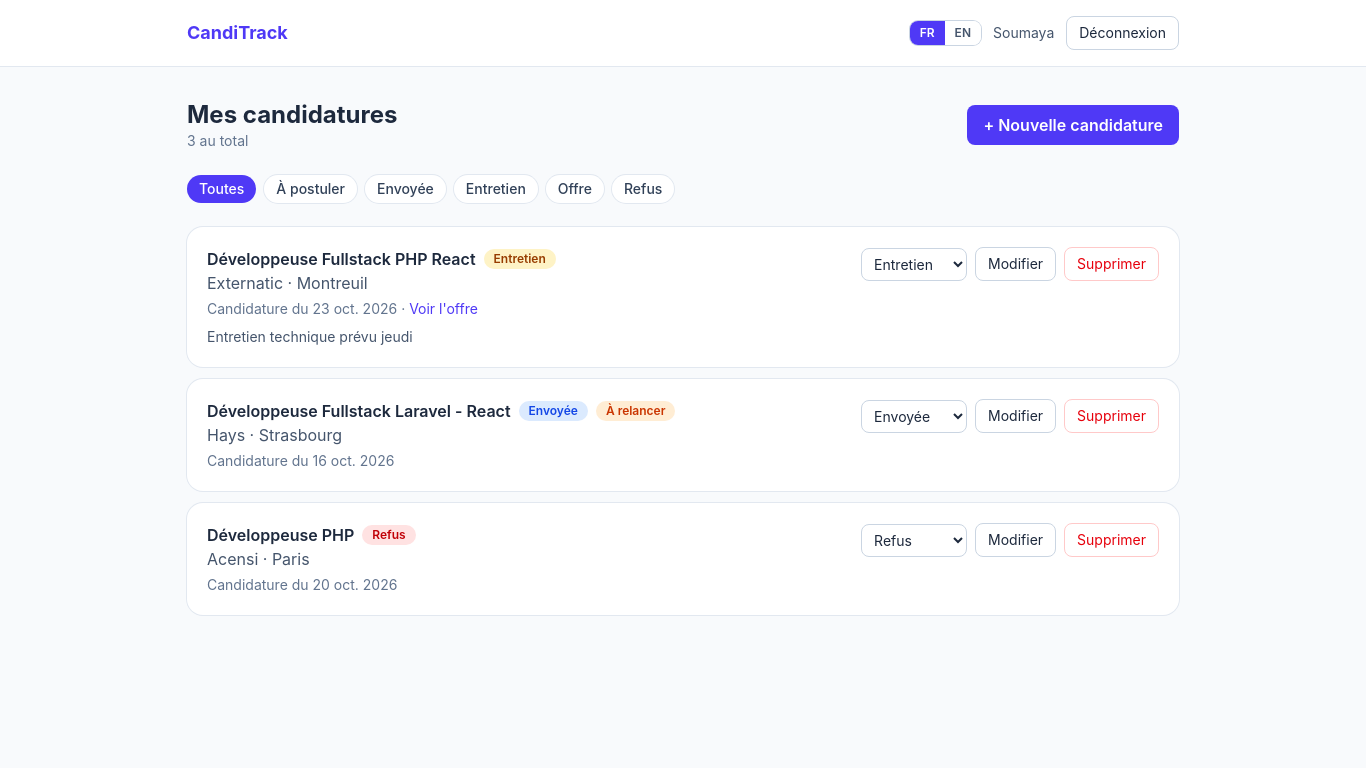
Test case: Candidatures › affiche les erreurs de validation du formulaire
This screenshot has width=1366, height=768.
Click the button "+ Nouvelle candidature" at (1073, 125), box [967,105,1179,145]
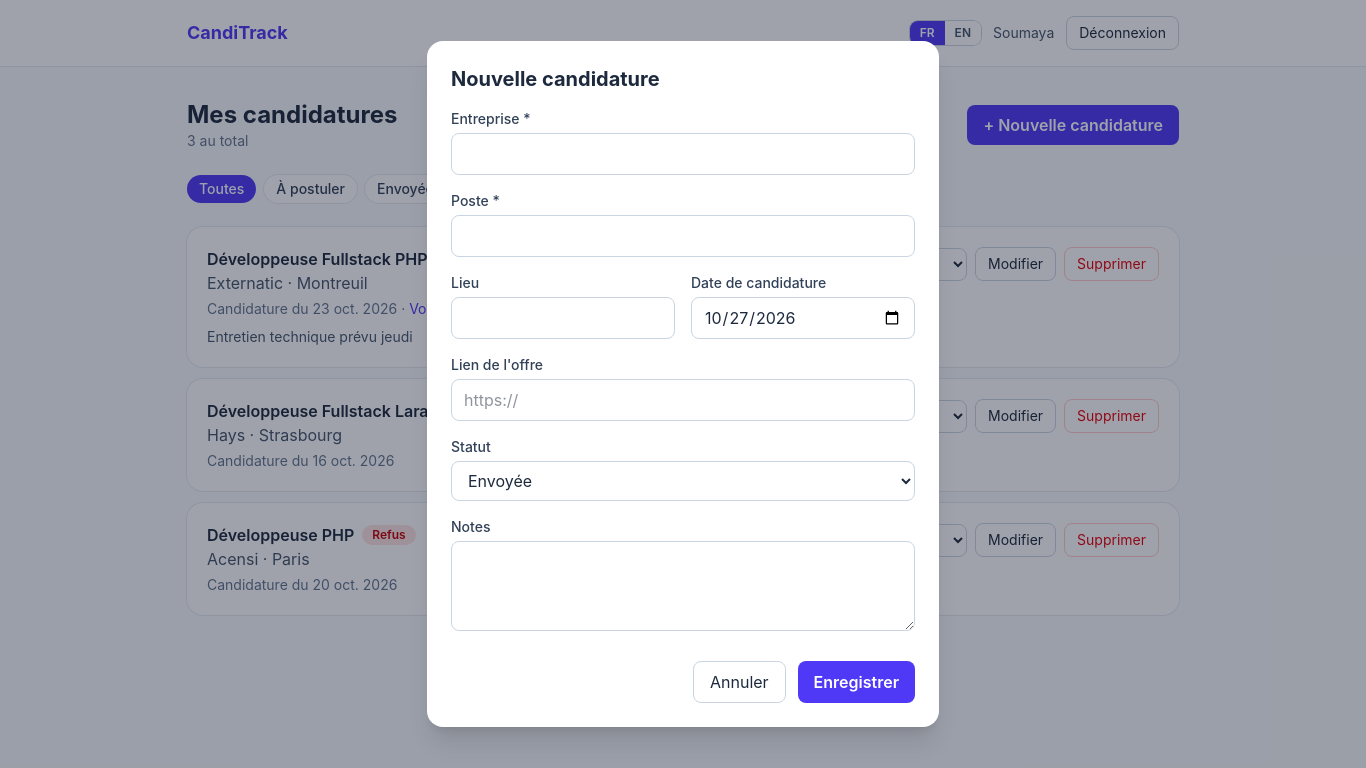
Click the button "Enregistrer" at (857, 682), box [798,661,915,703]
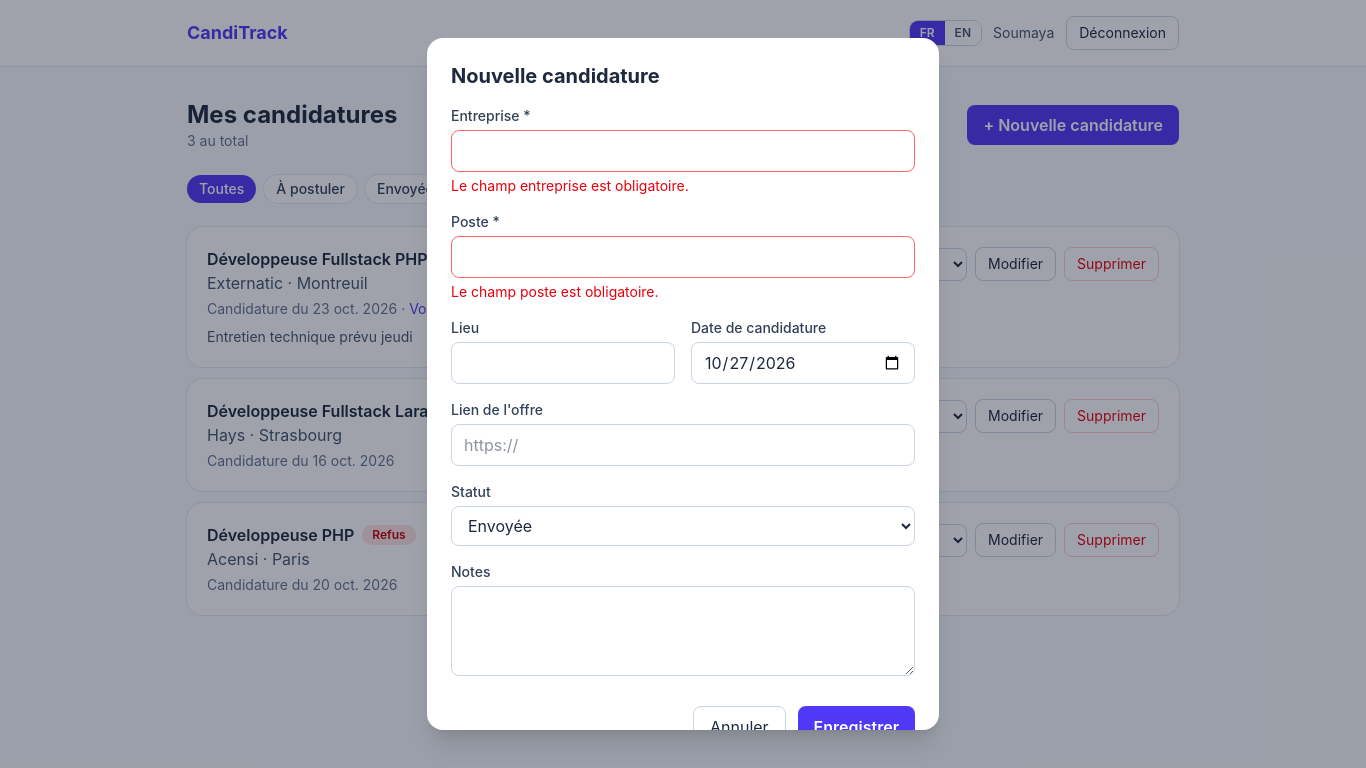
Expected: the text "Le champ entreprise est obligatoire." is shown, [451,177,689,194]
Expected: the text "Le champ poste est obligatoire." is shown, [451,283,659,300]
